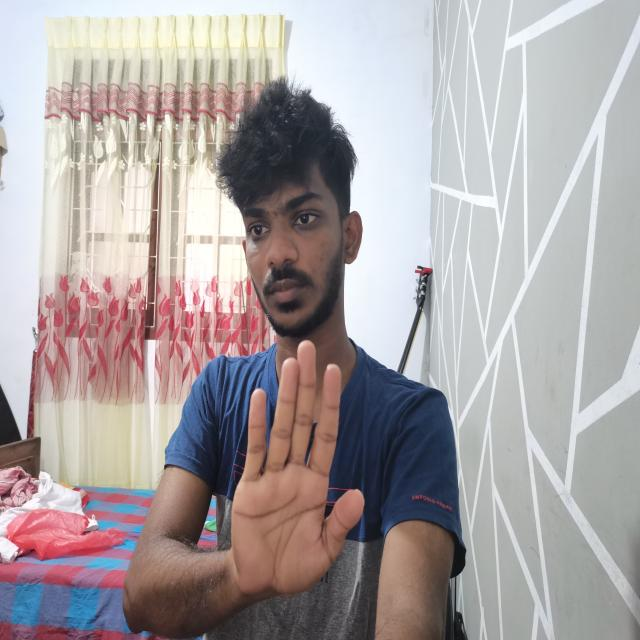Hello: (227, 334, 366, 598)
